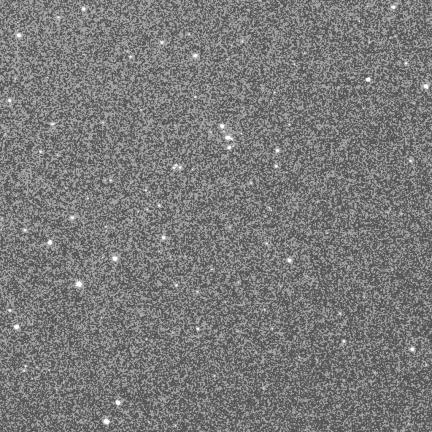blob: (14, 324, 20, 330), (76, 281, 82, 287), (225, 135, 232, 140), (103, 419, 110, 424), (366, 77, 371, 83), (410, 347, 415, 352), (116, 400, 121, 405), (113, 256, 118, 261), (424, 84, 429, 89), (220, 124, 224, 129), (48, 240, 52, 245), (17, 33, 21, 38), (391, 5, 395, 9), (82, 7, 86, 11), (193, 54, 197, 58), (8, 309, 12, 313), (39, 150, 43, 154), (288, 259, 292, 263), (162, 236, 165, 240), (227, 146, 231, 149), (276, 149, 280, 152), (110, 180, 114, 183), (71, 216, 75, 219), (196, 327, 199, 331), (175, 284, 179, 287), (160, 41, 164, 44), (342, 340, 346, 343), (8, 99, 11, 102), (23, 229, 26, 232), (179, 166, 181, 170), (275, 165, 278, 167), (405, 62, 407, 65)
